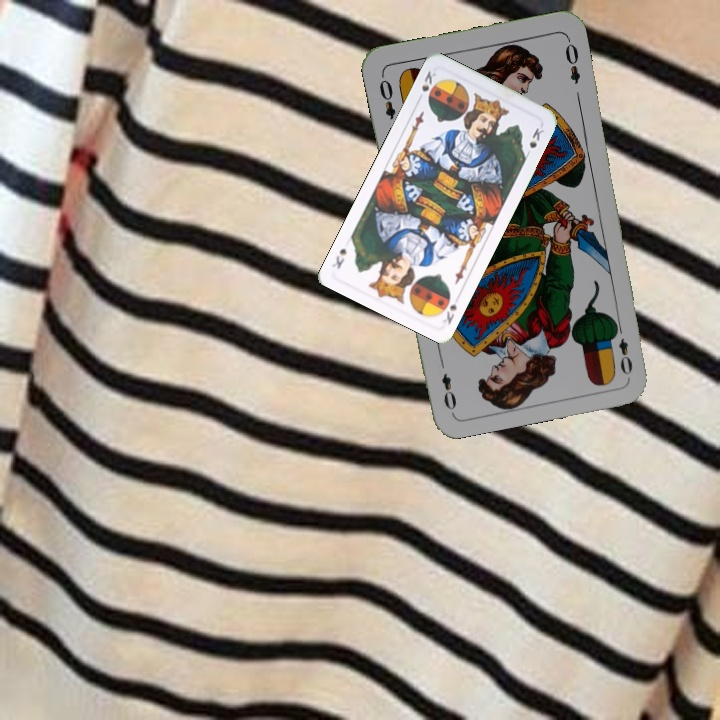EO: (610, 320, 635, 378), (375, 70, 398, 122)
SK: (438, 290, 461, 327), (417, 67, 439, 94)
